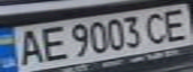0: (87, 18, 109, 55), (106, 16, 127, 52)
3: (121, 12, 145, 48)
9: (66, 20, 90, 58)
A: (9, 27, 48, 68)
C: (139, 9, 172, 45)
E: (157, 6, 193, 43), (36, 24, 69, 63)
